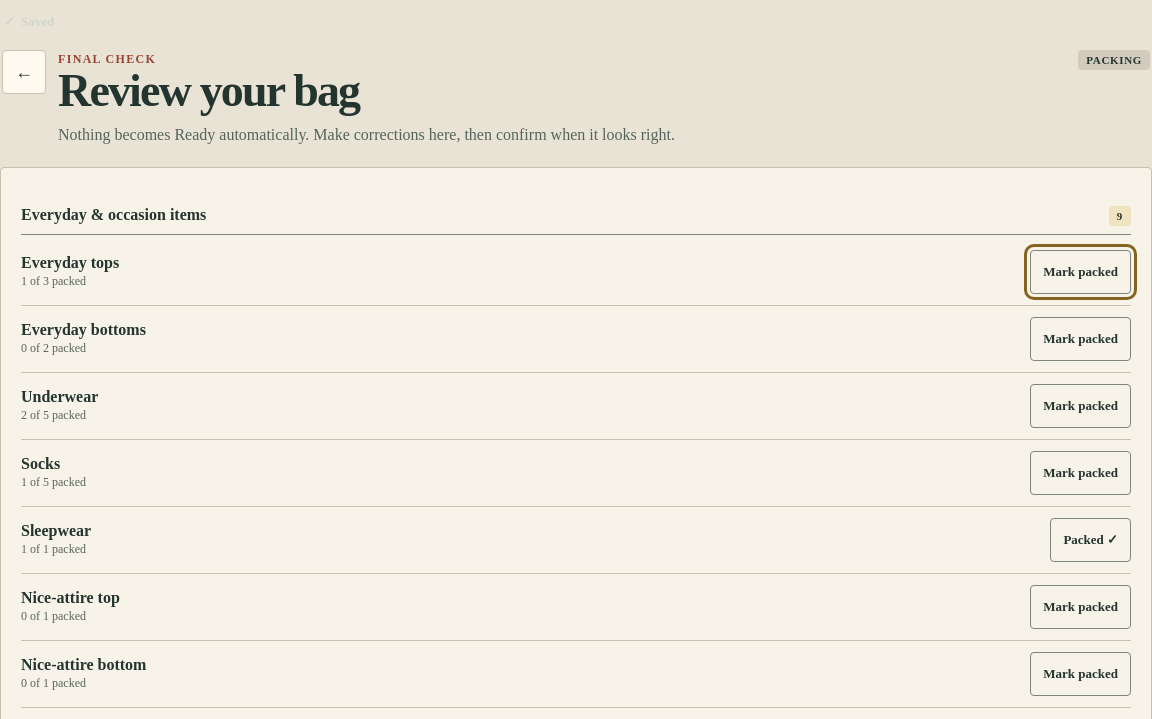
corrections on the review › fixing an unpacked row packs it and keeps focus on that row
Click the button named "Mark packed Everyday tops".
click(1081, 272)  # box [1030,250,1131,294]
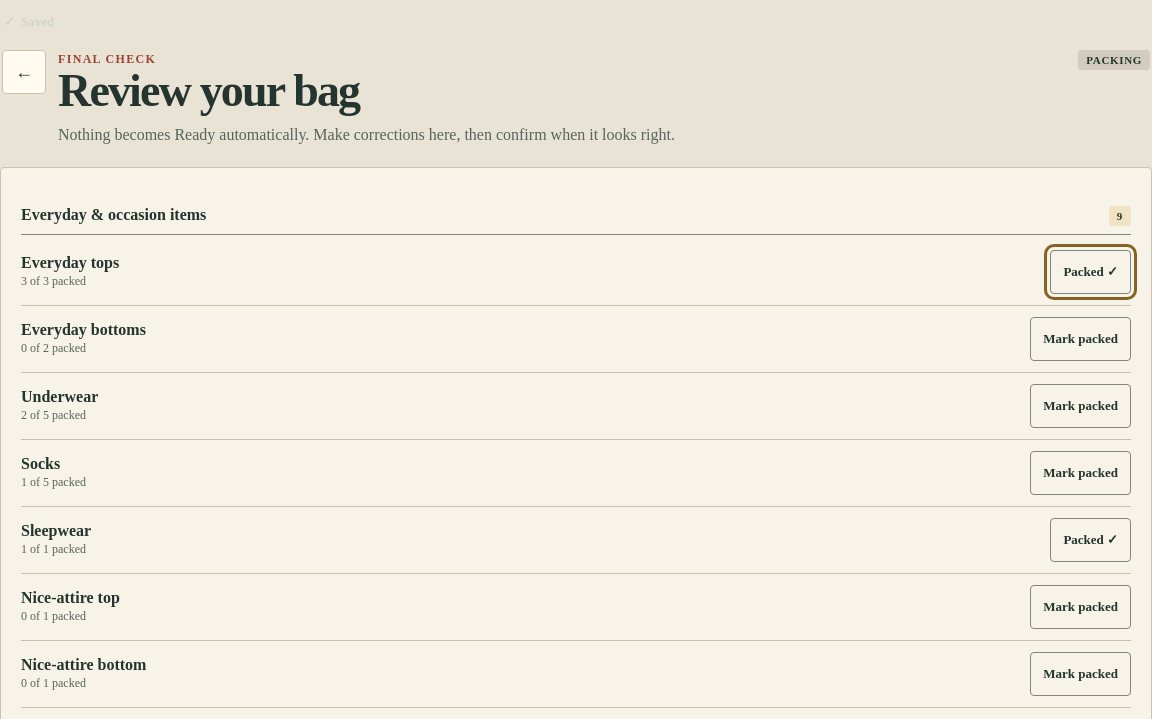
Now the button named "Packed ✓ Everyday tops, mark unpacked" reads "Packed ✓", box [1050,250,1131,294]
